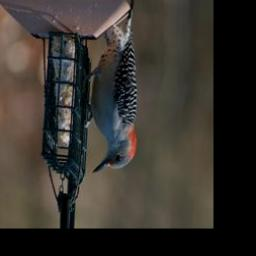Woodpecker: (81, 0, 138, 179)
